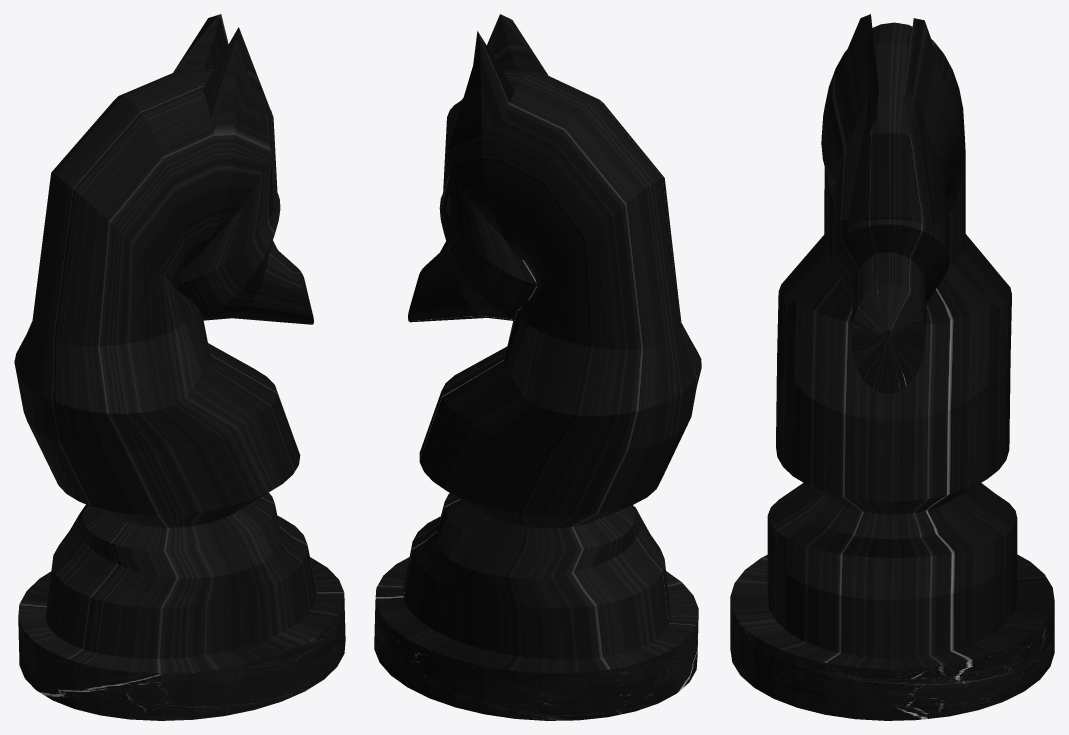
File: horse3.obj
3 views of the same model, side by side, from view 1: azimuth 30°, elevation 25°; view 2: azimuth 150°, elevation 25°; view 3: azimuth 270°, elevation 25° (orthographic). The views are drawn at different scales.
Visible parts, largest first — view 1: Cylinder; view 2: Cylinder; view 3: Cylinder.
Part boxes in pixels (<box>): Cylinder: <box>14,14,345,720</box>; Cylinder: <box>374,14,701,720</box>; Cylinder: <box>730,14,1054,720</box>.
Bounding box in the file's own units: 2.02 × 4.12 × 1.82.
1 material, 1 textured.
